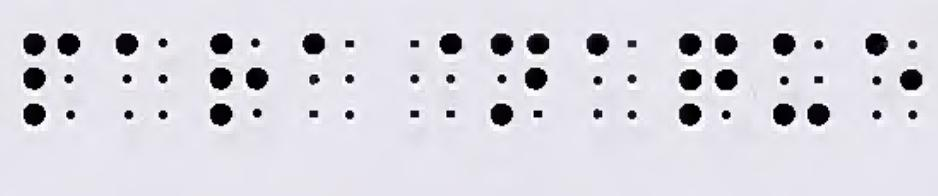a: (301, 33, 359, 123), (113, 30, 170, 121), (587, 33, 640, 120)
dot_4: (407, 31, 461, 119)
e: (867, 31, 920, 120)
enye: (489, 34, 549, 127)
p: (23, 33, 83, 129)
q: (676, 33, 739, 126)
r: (204, 34, 269, 129)
u: (771, 27, 829, 127)
